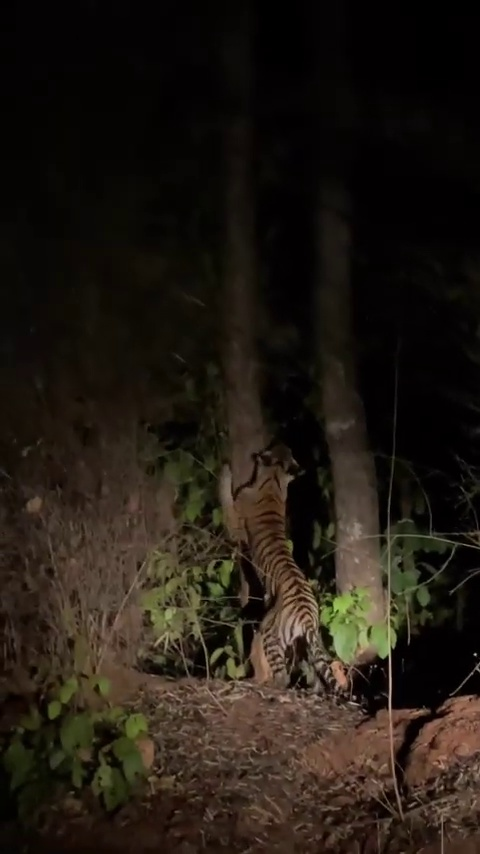Tiger: (215, 443, 389, 715)
